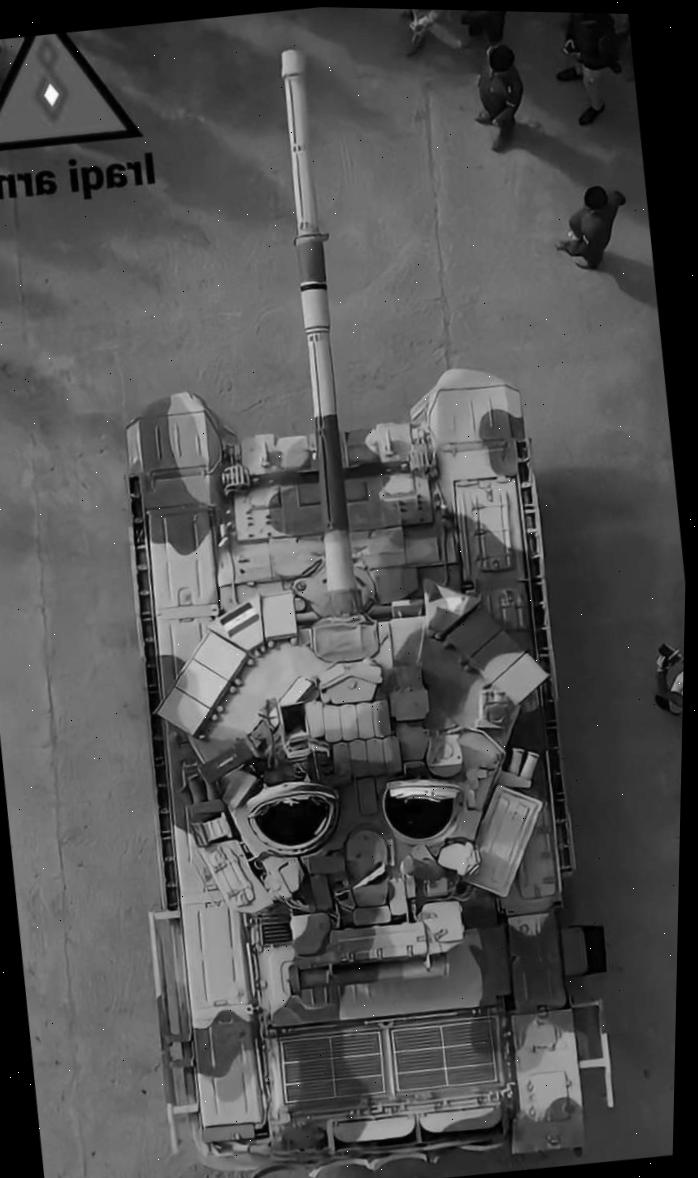tank: (25, 18, 652, 1178)
